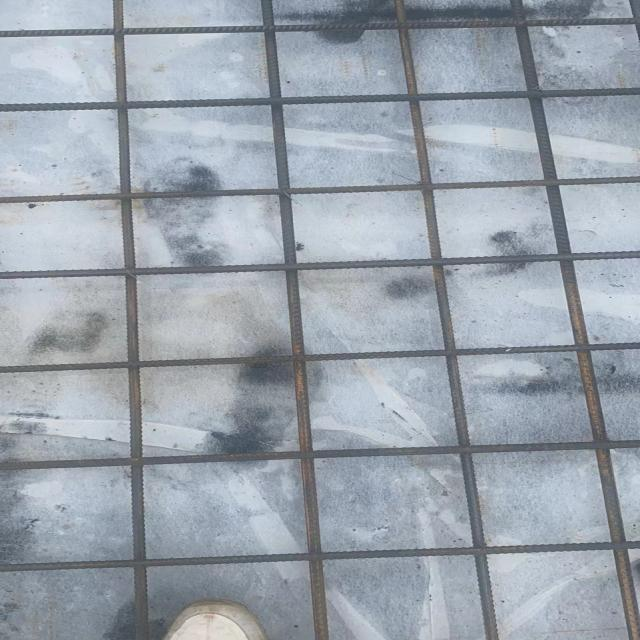ribbed bar: (507, 0, 638, 639), (393, 0, 501, 639), (257, 0, 330, 639), (109, 0, 153, 639), (0, 539, 639, 573), (0, 174, 639, 204), (0, 343, 639, 373), (0, 249, 639, 278), (0, 440, 639, 469), (0, 86, 639, 113), (0, 16, 639, 38)
